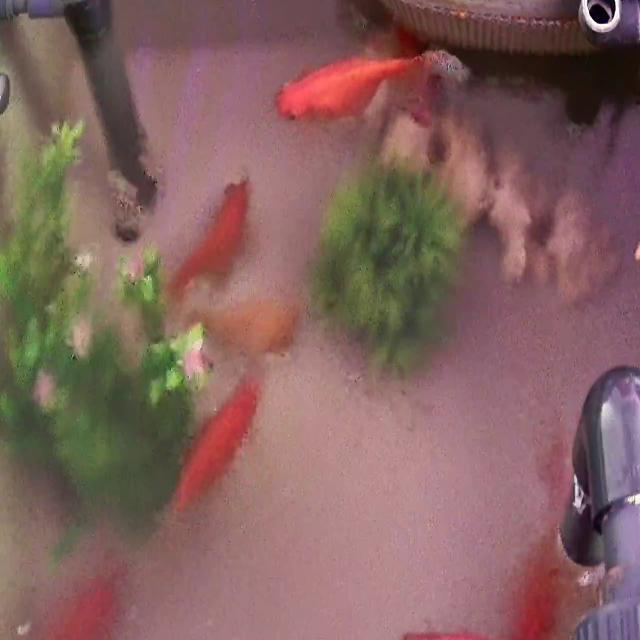fish: (168, 373, 261, 518), (166, 176, 252, 302), (276, 49, 409, 129), (5, 563, 129, 640), (181, 295, 295, 358), (511, 546, 573, 640)
